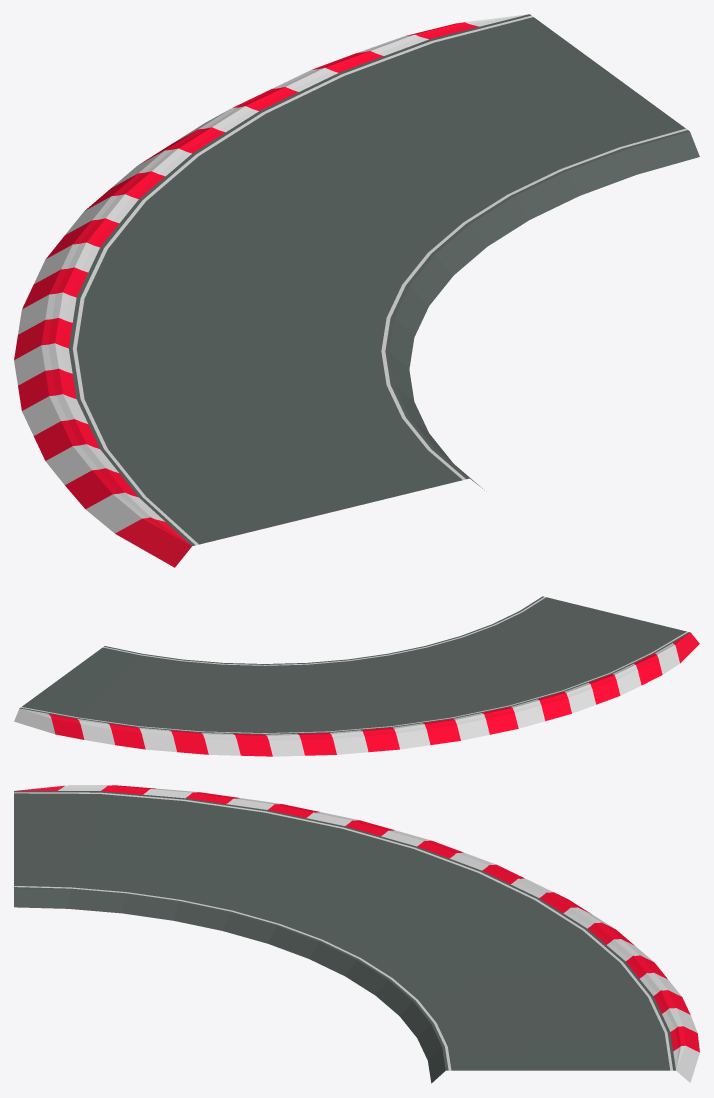
File: Curce_90_m_curbs.fbx
3 renders of one model, top to bottom at view 1: azimuth 30°, elevation 25°; view 2: azimuth 150°, elevation 25°; view 3: azimuth 270°, elevation 25°, orthographic. The views are drawn at different scales.
Visible parts, largest first — view 1: Plane; view 2: Plane; view 3: Plane.
Boxes of the visible parts, x1,y1,x2,y2 form: Plane: (14, 14, 699, 567); Plane: (14, 596, 699, 756); Plane: (14, 785, 699, 1083).
Bounding box in the file's own units: 47.66 × 1.37 × 47.66.
